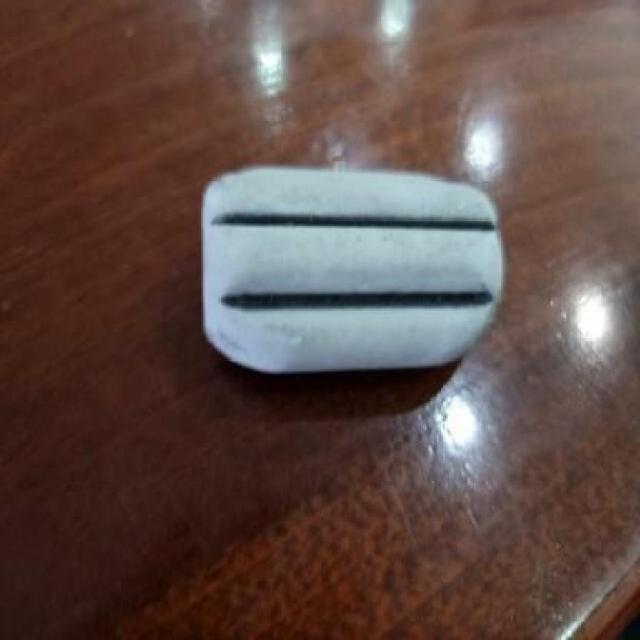not trash: (187, 161, 504, 376)
